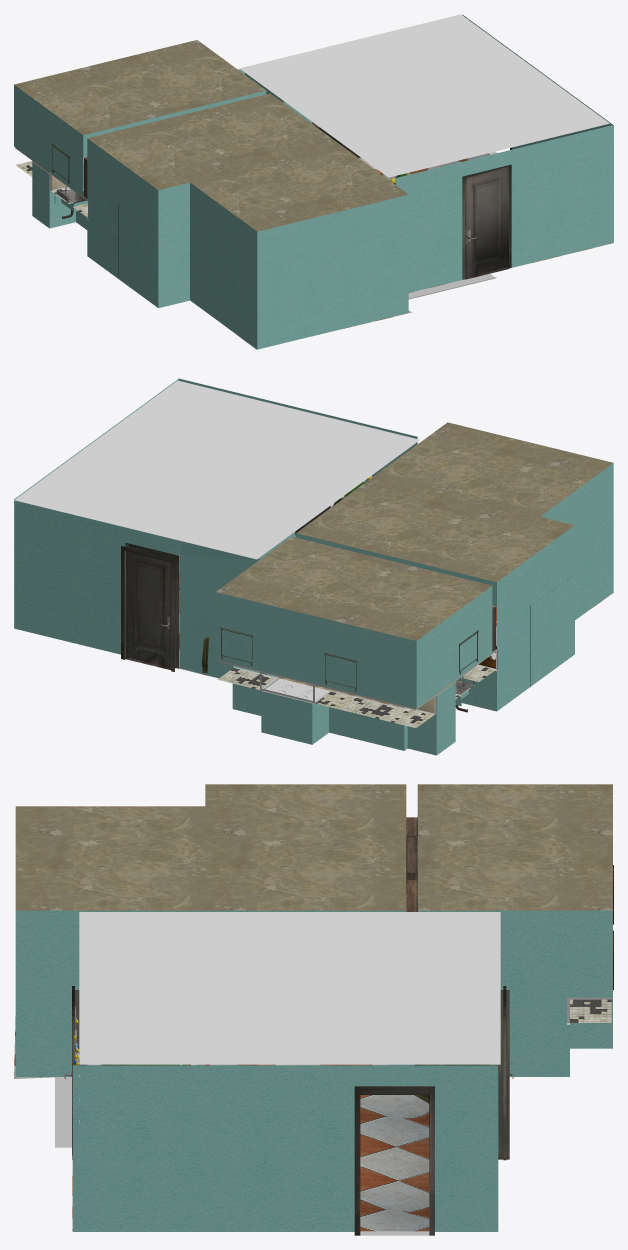
The model's file is Casainterior_cariñito.fbx.
The picture shows the model from 3 angles, top to bottom: view 1: azimuth 30°, elevation 25°; view 2: azimuth 150°, elevation 25°; view 3: azimuth 270°, elevation 25°; orthographic projection. The views are drawn at different scales.
Parts seen in each view (by area): view 1: Object_17, Object_19, Object_11, Object_10, Object_3, Object_70, Object_9, Object_13, Object_5, floor_0; view 2: Object_3, Object_19, Object_11, Object_17, Object_70, Object_8, Object_13, Object_7, Object_18, Object_9; view 3: Object_3, Object_19, Object_11, Object_17, Object_5, Object_13, floor_0, Object_2, Object_70, Object_8.
Part boxes in pixels (box(x1,y1,x2,y2)): Object_17: box(87, 138, 408, 349); Object_19: box(14, 40, 408, 231); Object_11: box(239, 14, 609, 177); Object_10: box(398, 134, 613, 289); Object_3: box(14, 15, 612, 229); Object_70: box(315, 124, 508, 279); Object_9: box(395, 125, 613, 292); Object_13: box(312, 122, 513, 279); Object_5: box(226, 153, 611, 349); floor_0: box(408, 273, 496, 299); Object_3: box(14, 379, 492, 755); Object_19: box(216, 422, 613, 640); Object_11: box(14, 380, 419, 559); Object_17: box(296, 463, 613, 711); Object_70: box(126, 502, 334, 669); Object_8: box(217, 665, 495, 727); Object_13: box(121, 543, 179, 671); Object_7: box(217, 649, 497, 714); Object_18: box(265, 678, 329, 701); Object_9: box(178, 378, 417, 445); Object_3: box(73, 910, 612, 1231); Object_19: box(15, 784, 612, 910); Object_11: box(79, 912, 500, 1064); Object_17: box(15, 910, 406, 1076); Object_5: box(14, 1017, 429, 1231); Object_13: box(75, 990, 509, 1235); floor_0: box(55, 1077, 71, 1147); Object_2: box(406, 817, 417, 911); Object_70: box(64, 986, 513, 1160); Object_8: box(570, 999, 611, 1022).
Bounding box in the file's own units: 1022 × 280 × 908.
